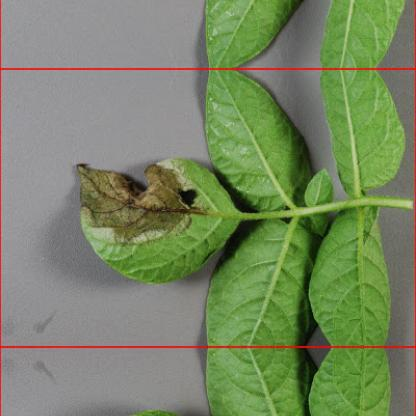Late-Blight: (48, 145, 244, 281)
